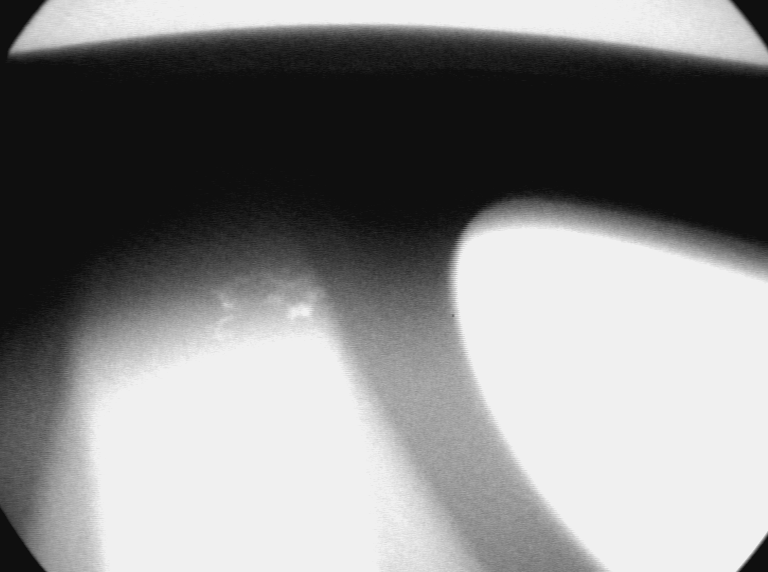defect: (206, 269, 331, 341)
